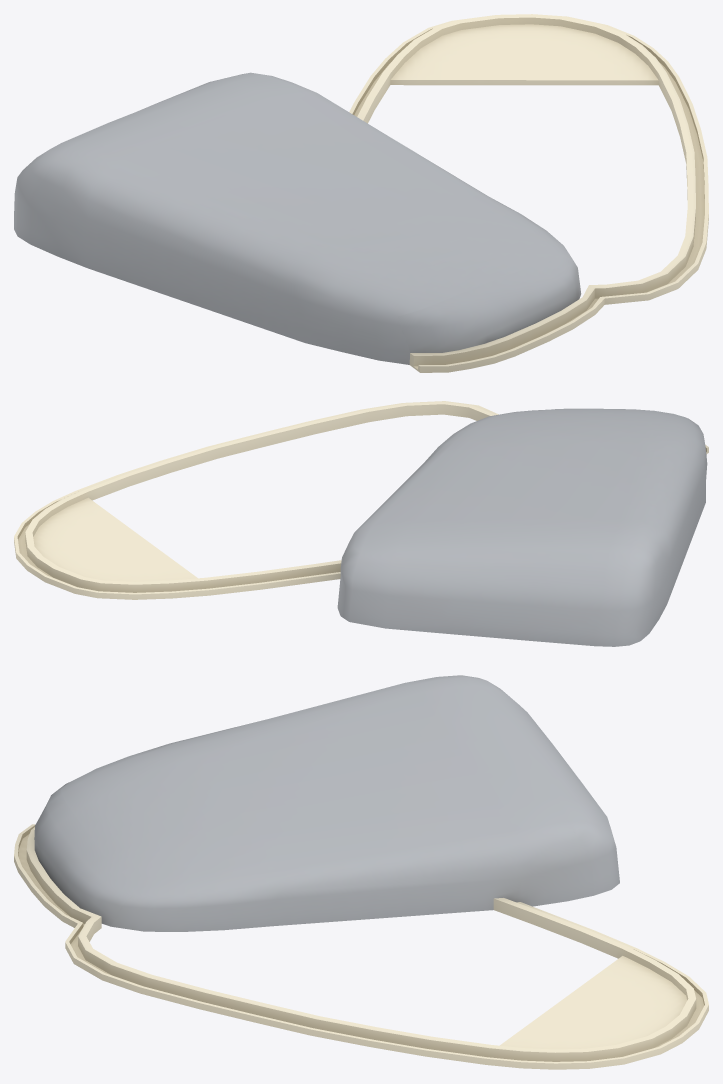
The model's file is kingabdulazizcentre_low_2.glb.
3 views of the same model, one above another, from view 1: azimuth 30°, elevation 25°; view 2: azimuth 150°, elevation 25°; view 3: azimuth 270°, elevation 25° (orthographic). The views are drawn at different scales.
Parts seen in each view (by area): view 1: King_Abdulaziz_Center_baked.001; view 2: King_Abdulaziz_Center_baked.001; view 3: King_Abdulaziz_Center_baked.001.
Part boxes in pixels (box(x1,y1,x2,y2)): King_Abdulaziz_Center_baked.001: box(14, 14, 708, 372); King_Abdulaziz_Center_baked.001: box(14, 401, 708, 646); King_Abdulaziz_Center_baked.001: box(14, 675, 708, 1069).
Bounding box in the file's own units: 88.1 × 11.81 × 81.44.
Materials: 1 (1 with a texture image).
